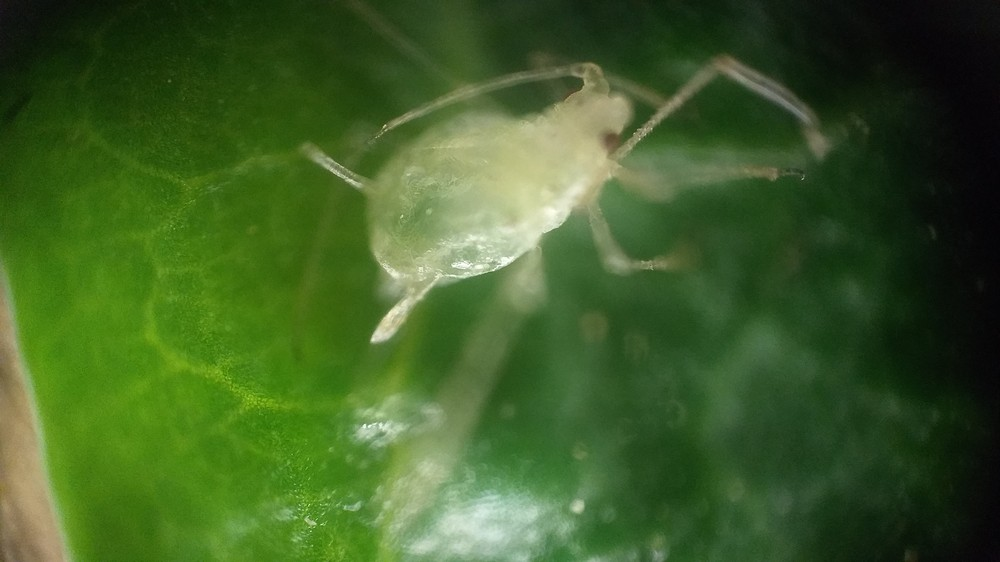Pulgon: (282, 11, 860, 375)
